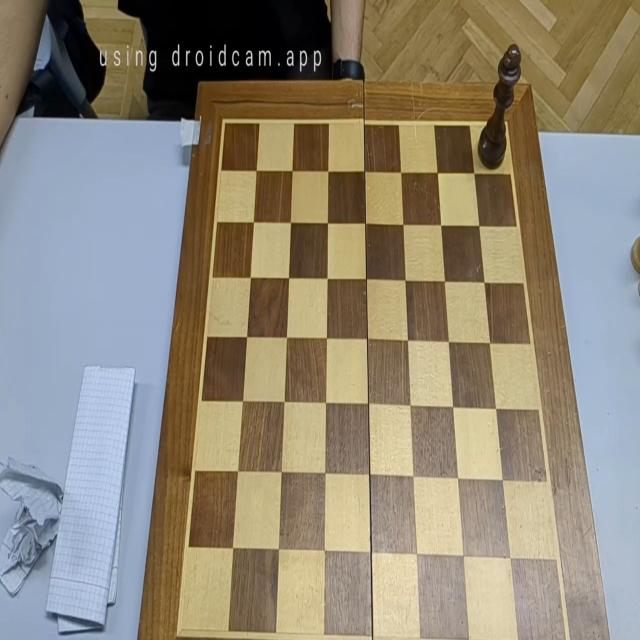black_king: (478, 44, 522, 170)
